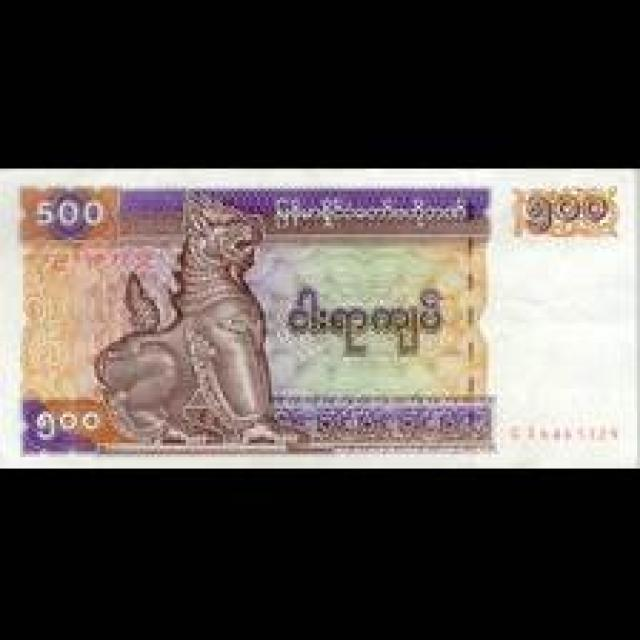banknote: (0, 166, 637, 466)
